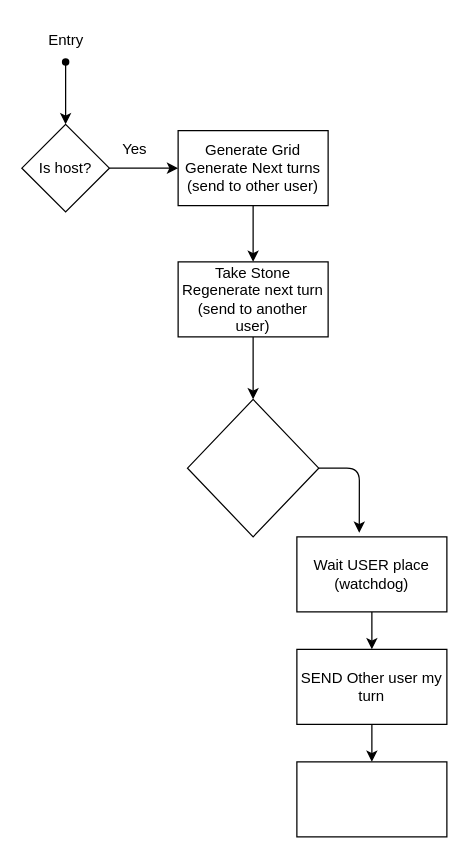
This 469x859 diagram has some shape labels left out. Here are the shapes that lost their labels. From the top down, the box of each, then its label:
(186, 398, 319, 537): Is curr_user on turn?
(296, 761, 447, 837): Calculate outcome score from turn and grid
